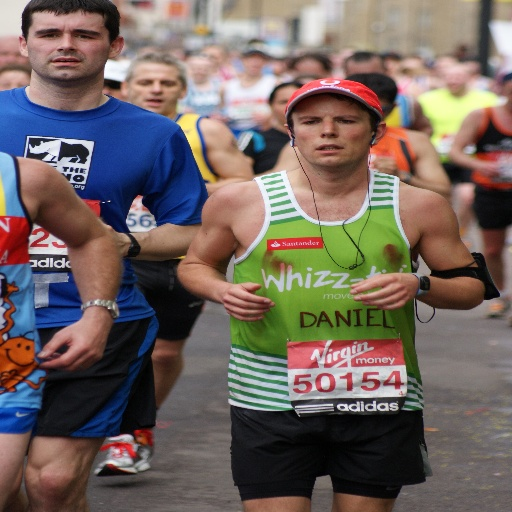hand: (32, 317, 111, 375), (354, 270, 433, 305), (216, 278, 277, 322), (96, 217, 129, 260), (369, 153, 402, 176), (475, 160, 508, 180)
